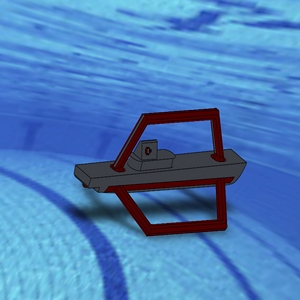submarine: (63, 71, 262, 246)
